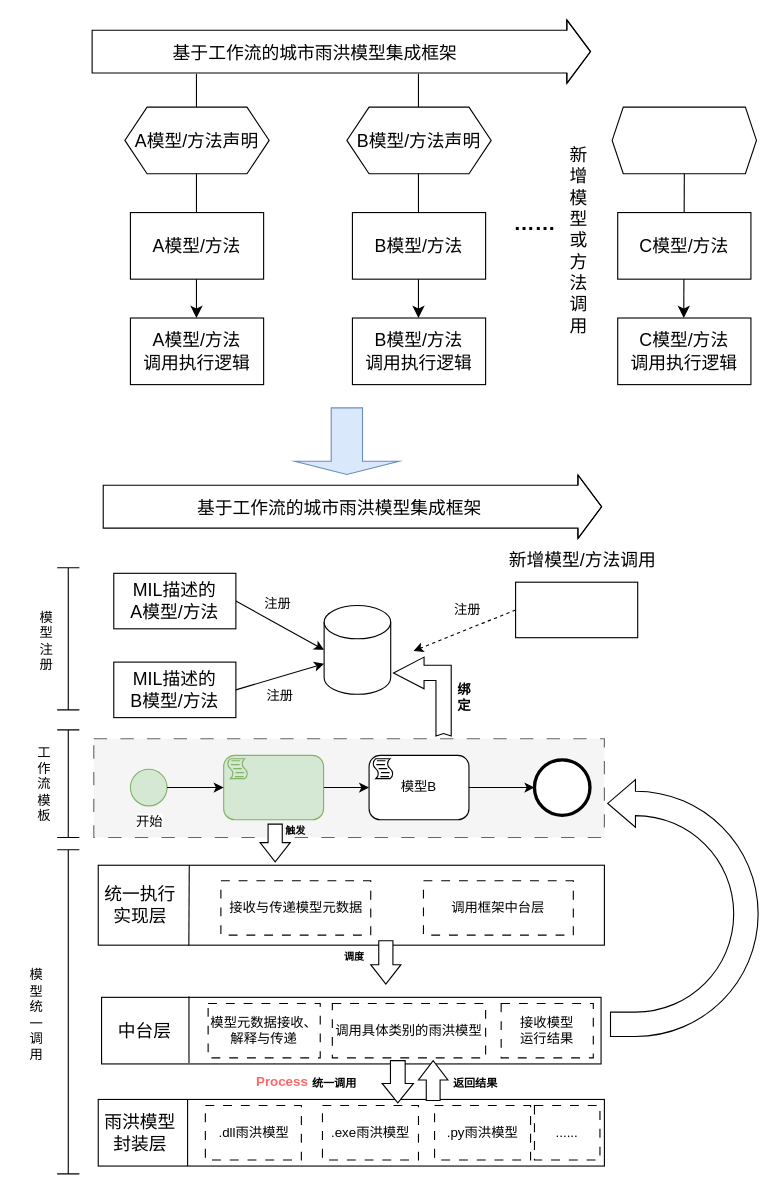
This 777x1193 diagram has some shape labels left out. The shapes that lost their labels are listed below. From the top down, each one's centre as x and y in pixels, then its label:
the point at 683,140: C模型/方法声明
the point at 576,609: MIL描述的 C模型/方法
the point at 357,649: 模型注册中心
the point at 273,787: 模型A
the point at 561,787: 结束
the point at 683,907: 消息传递
